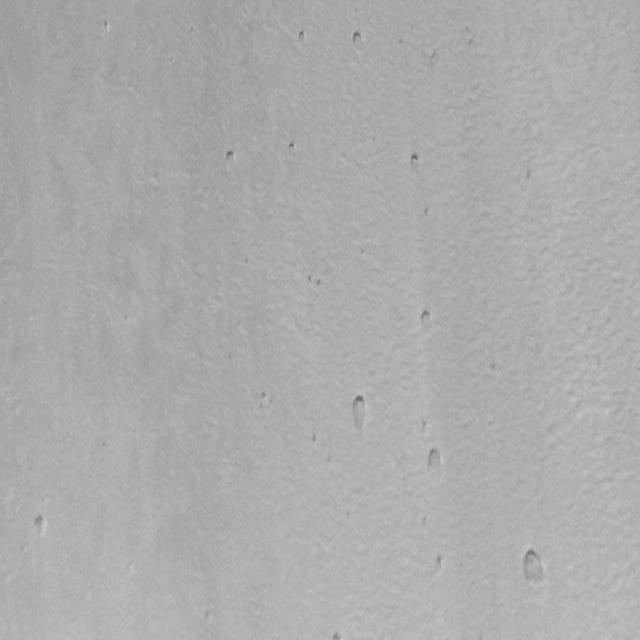pin holes: (522, 549, 554, 590), (348, 390, 375, 436), (422, 447, 446, 477), (30, 513, 51, 540), (418, 307, 439, 333), (220, 149, 241, 173), (254, 389, 275, 412), (349, 29, 369, 53), (307, 272, 329, 292), (407, 150, 425, 173), (431, 553, 448, 575), (288, 138, 303, 156), (418, 416, 432, 434), (308, 432, 323, 448), (296, 28, 310, 45), (201, 608, 215, 625), (100, 18, 113, 36), (331, 629, 348, 639), (490, 362, 498, 379), (526, 166, 534, 182), (423, 207, 431, 220)
